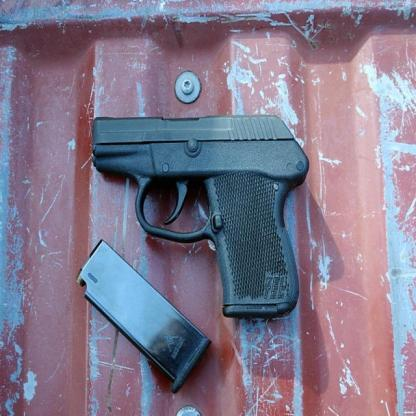weapon: (89, 112, 310, 321)
